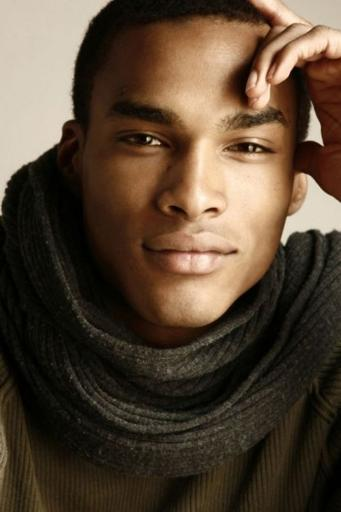left_eye: (221, 139, 274, 163)
left_lip_corner: (224, 242, 245, 263)
right_eye: (115, 132, 172, 155)
right_lip_corner: (137, 238, 156, 259)
